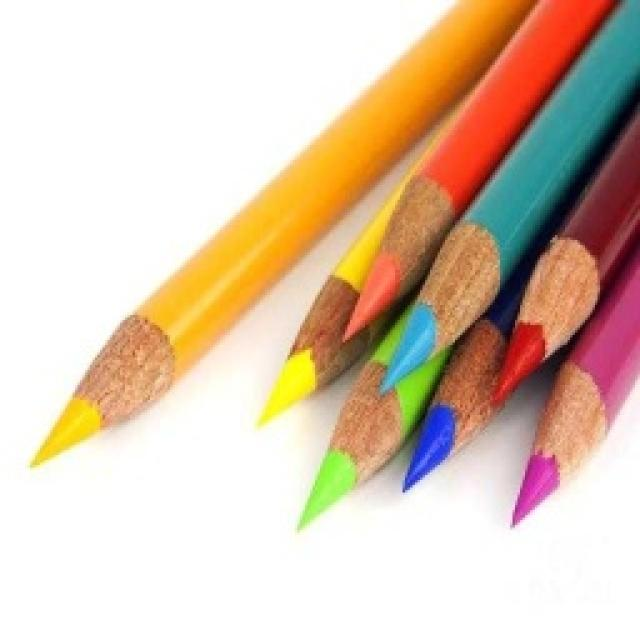pencil: (22, 0, 638, 540)
